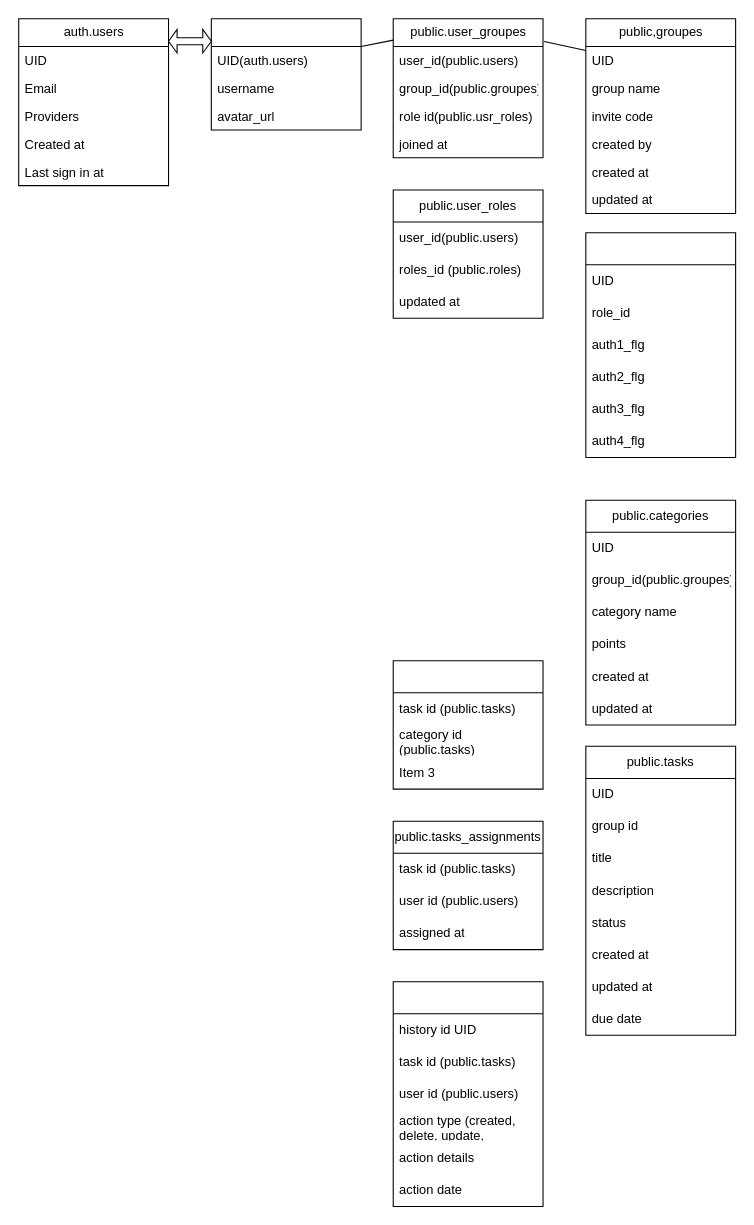
Image size: 754x1225. Some labels were removed from this diagram. Here are the shapes that lost their labels. From the top down, the box of each, then its label:
(210, 18, 361, 130): public.users
(585, 232, 736, 457): public.roles
(392, 660, 543, 789): public.tasks_categories
(392, 981, 543, 1206): public.task_history
